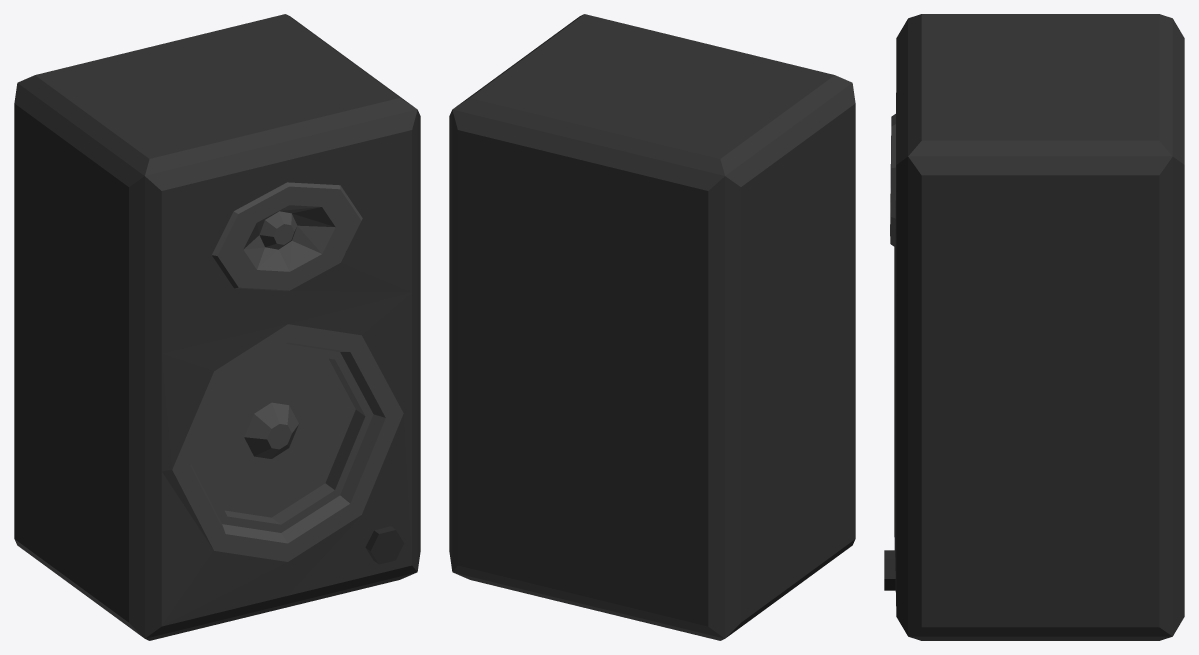
File: speaker.fbx
The picture shows the model from 3 angles, left to right: view 1: azimuth 30°, elevation 25°; view 2: azimuth 150°, elevation 25°; view 3: azimuth 270°, elevation 25°; orthographic projection. The views are drawn at different scales.
Parts seen in each view (by area): view 1: speaker; view 2: speaker; view 3: speaker.
Boxes of the visible parts, x1=… form: speaker: x1=14, y1=14, x2=420, y2=640; speaker: x1=449, y1=14, x2=855, y2=640; speaker: x1=884, y1=14, x2=1184, y2=640.
Bounding box in the file's own units: 0.6318 × 0.998 × 0.5427.
Materials: 1 (1 with a texture image).
